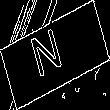N_S: (35, 24, 75, 86)
